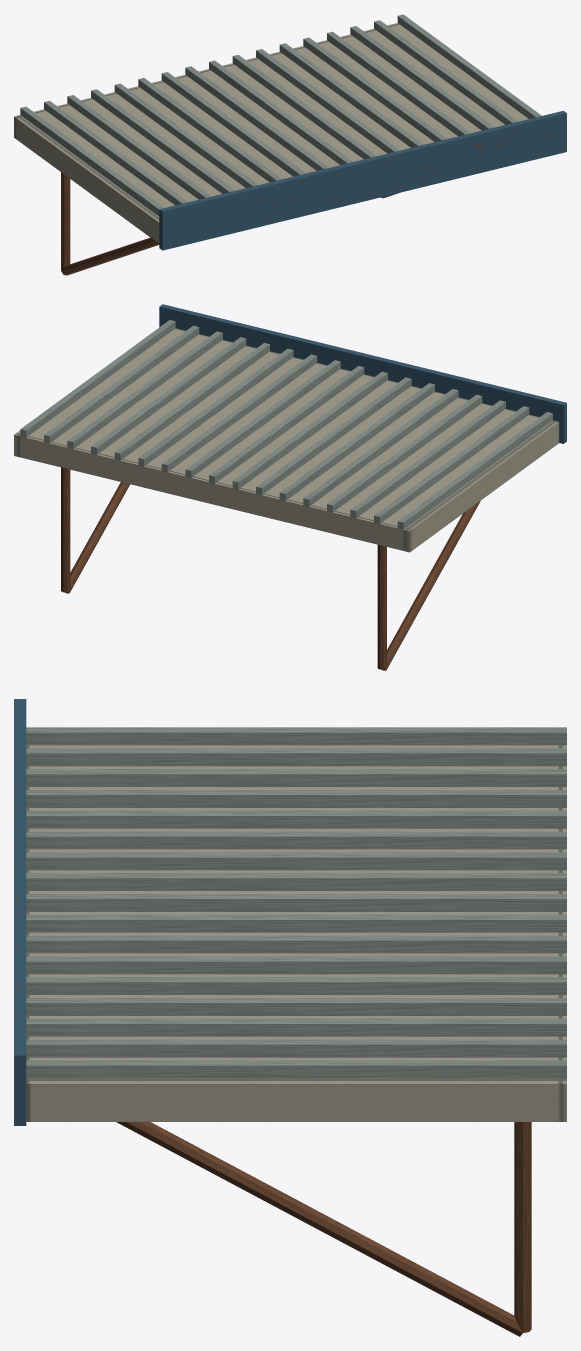
The model's file is CIS_EntranceCanopy.obj.
The picture shows the model from 3 angles, top to bottom: view 1: azimuth 30°, elevation 25°; view 2: azimuth 150°, elevation 25°; view 3: azimuth 270°, elevation 25°; orthographic projection. The views are drawn at different scales.
Visible parts, largest first — view 1: CIS_EntranceCanopy; view 2: CIS_EntranceCanopy; view 3: CIS_EntranceCanopy.
Boxes of the visible parts, <box> form: CIS_EntranceCanopy: <box>14,14,566,275</box>; CIS_EntranceCanopy: <box>14,304,566,670</box>; CIS_EntranceCanopy: <box>14,699,566,1336</box>.
Size of the model in its own units: 2.4 by 1 by 1.57.
Materials: 4 (4 with a texture image).
